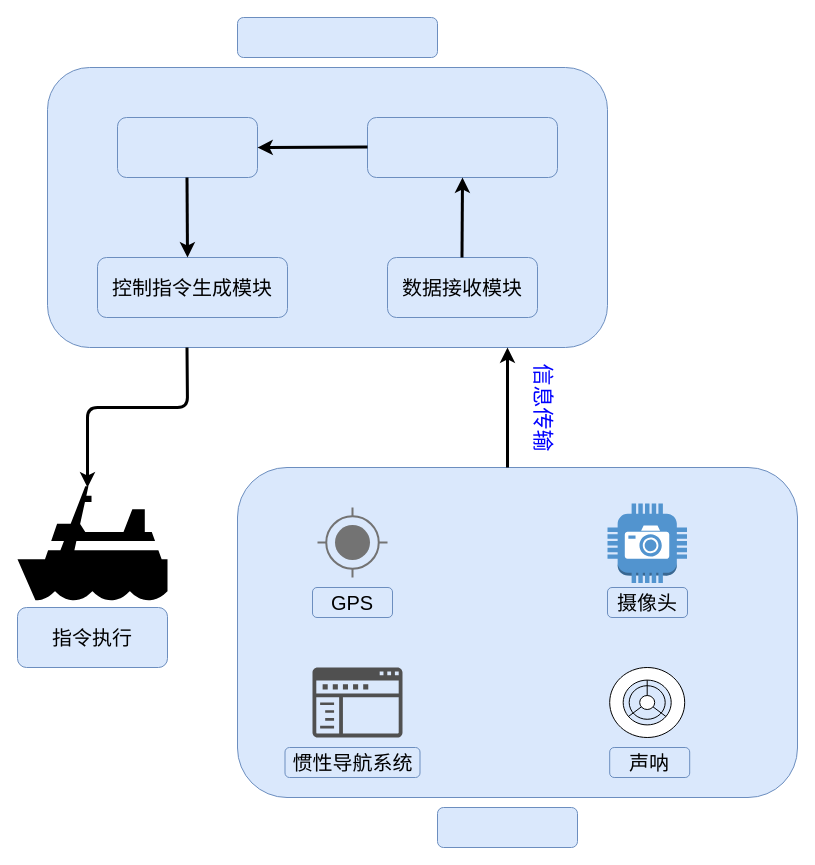
This 815x865 diagram has some shape labels left out. The shapes that lost their labels are listed below. From the top down, each one's box as (x1, y1, x2, y2) in pixels, then its label:
(236, 16, 438, 58): 虚拟航行控制服务器
(116, 116, 258, 178): 决策模块
(366, 116, 558, 178): 航行控制算法模块
(436, 806, 578, 848): 无人艇传感器
